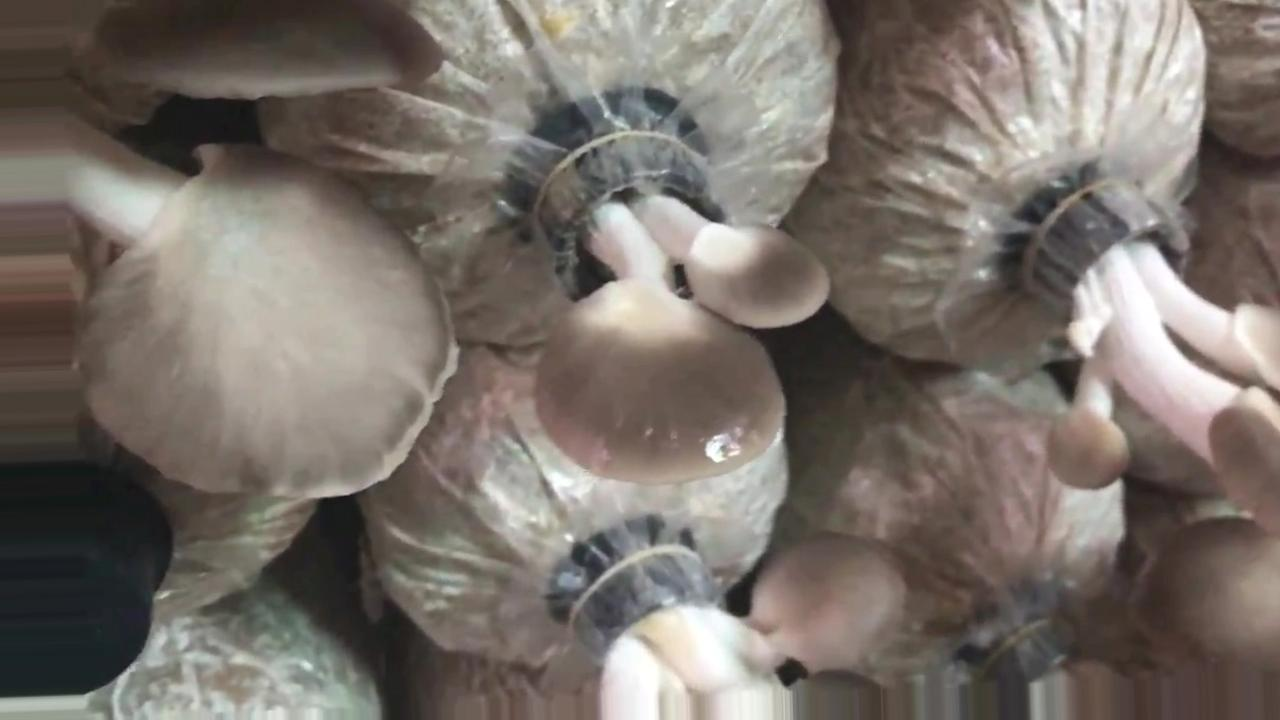nam: (1, 1, 459, 509), (531, 130, 831, 493), (1027, 175, 1280, 515), (560, 524, 903, 720)
